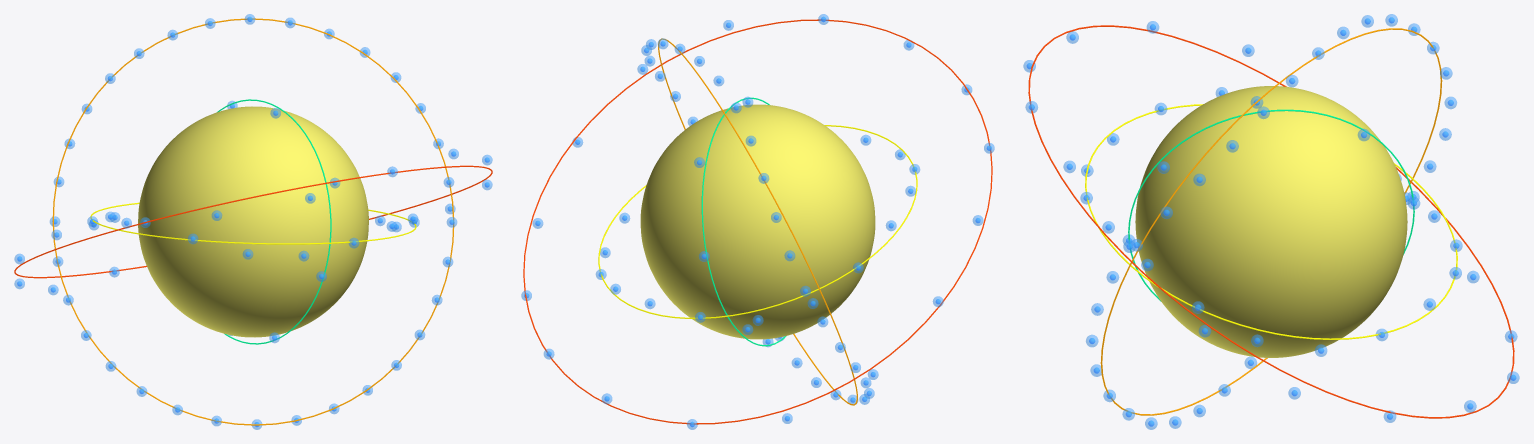
3 views of the same model, side by side, from view 1: azimuth 30°, elevation 25°; view 2: azimuth 150°, elevation 25°; view 3: azimuth 270°, elevation 25° (orthographic). The views are drawn at different scales.
Visible parts, largest first — view 1: Os, object 61, object 126, object 24, object 7; view 2: Os, object 126, object 24, object 61, object 7; view 3: Os, object 126, object 61, object 24, object 7.
Part boxes in pixels (bbox=[...]): Os: bbox=[138, 106, 368, 337]; object 61: bbox=[52, 18, 454, 425]; object 126: bbox=[14, 165, 492, 278]; object 24: bbox=[90, 202, 416, 244]; object 7: bbox=[217, 99, 331, 344]; Os: bbox=[640, 104, 875, 339]; object 126: bbox=[523, 19, 992, 424]; object 24: bbox=[598, 125, 917, 318]; object 61: bbox=[658, 38, 857, 405]; object 7: bbox=[701, 97, 786, 346]; Os: bbox=[1135, 86, 1407, 357]; object 126: bbox=[1028, 25, 1514, 418]; object 61: bbox=[1100, 28, 1442, 415]; object 24: bbox=[1085, 104, 1457, 339]; object 7: bbox=[1128, 109, 1414, 301].
Size of the model in its own units: 7.2 by 5.82 by 6.22.
